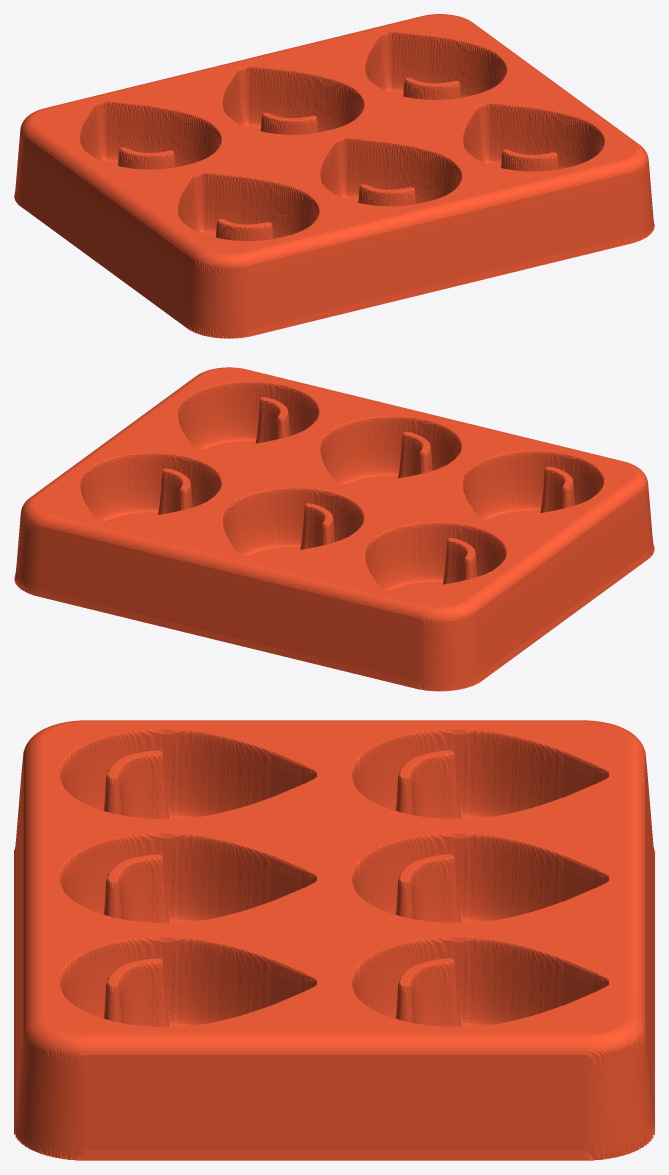
File: mold.glb
3 renders of one model, top to bottom at view 1: azimuth 30°, elevation 25°; view 2: azimuth 150°, elevation 25°; view 3: azimuth 270°, elevation 25°, orthographic. The views are drawn at different scales.
Parts seen in each view (by area): view 1: geometry_0; view 2: geometry_0; view 3: geometry_0.
Boxes of the visible parts, box(x1,y1,x2,y2) form: geometry_0: box(14, 14, 654, 338); geometry_0: box(14, 367, 654, 691); geometry_0: box(14, 720, 654, 1160).
Bounding box in the file's own units: 0.1002 × 0.0159 × 0.0808.
